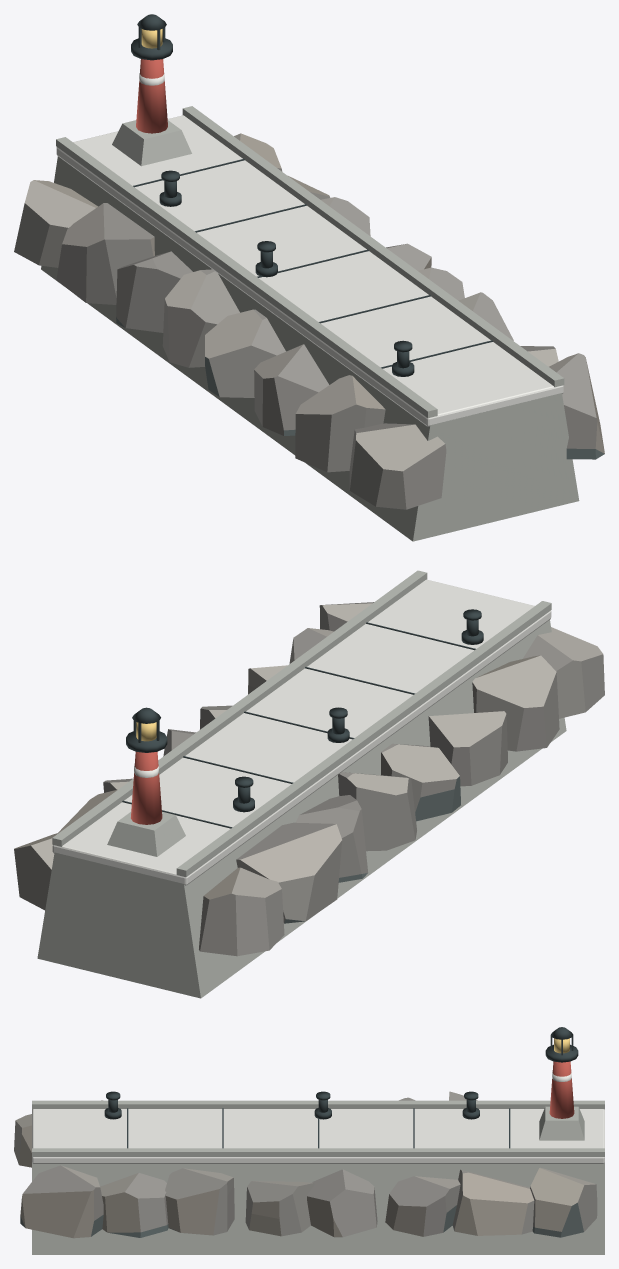
File: ENV_Breakwater.fbx
The picture shows the model from 3 angles, top to bottom: view 1: azimuth 30°, elevation 25°; view 2: azimuth 150°, elevation 25°; view 3: azimuth 270°, elevation 25°; orthographic projection. The views are drawn at different scales.
Visible parts, largest first — view 1: ENV_Breakwater_Root_Visual, BeaconMount_Visual; view 2: ENV_Breakwater_Root_Visual, BeaconMount_Visual; view 3: ENV_Breakwater_Root_Visual, BeaconMount_Visual.
Boxes of the visible parts, bbox=[...] form: ENV_Breakwater_Root_Visual: bbox=[14, 106, 604, 541]; BeaconMount_Visual: bbox=[112, 14, 191, 166]; ENV_Breakwater_Root_Visual: bbox=[14, 570, 604, 998]; BeaconMount_Visual: bbox=[107, 707, 185, 856]; ENV_Breakwater_Root_Visual: bbox=[14, 1091, 604, 1254]; BeaconMount_Visual: bbox=[539, 1027, 584, 1140].
Bounding box in the file's own units: 490 × 450 × 1238.
